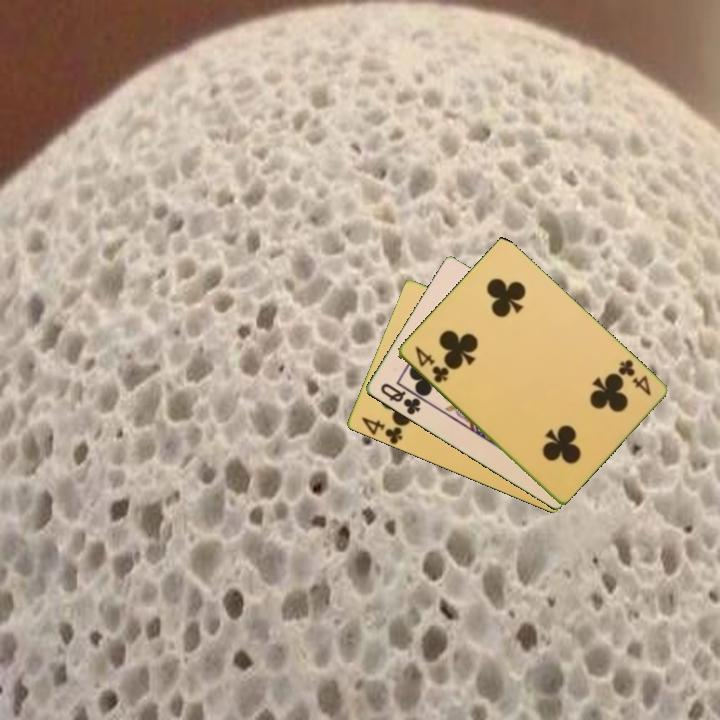4c: (411, 342, 451, 386), (614, 356, 654, 399), (358, 414, 405, 446)
Qc: (376, 379, 423, 418)
